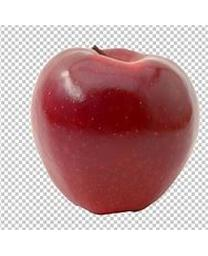apple: (28, 45, 199, 214)
